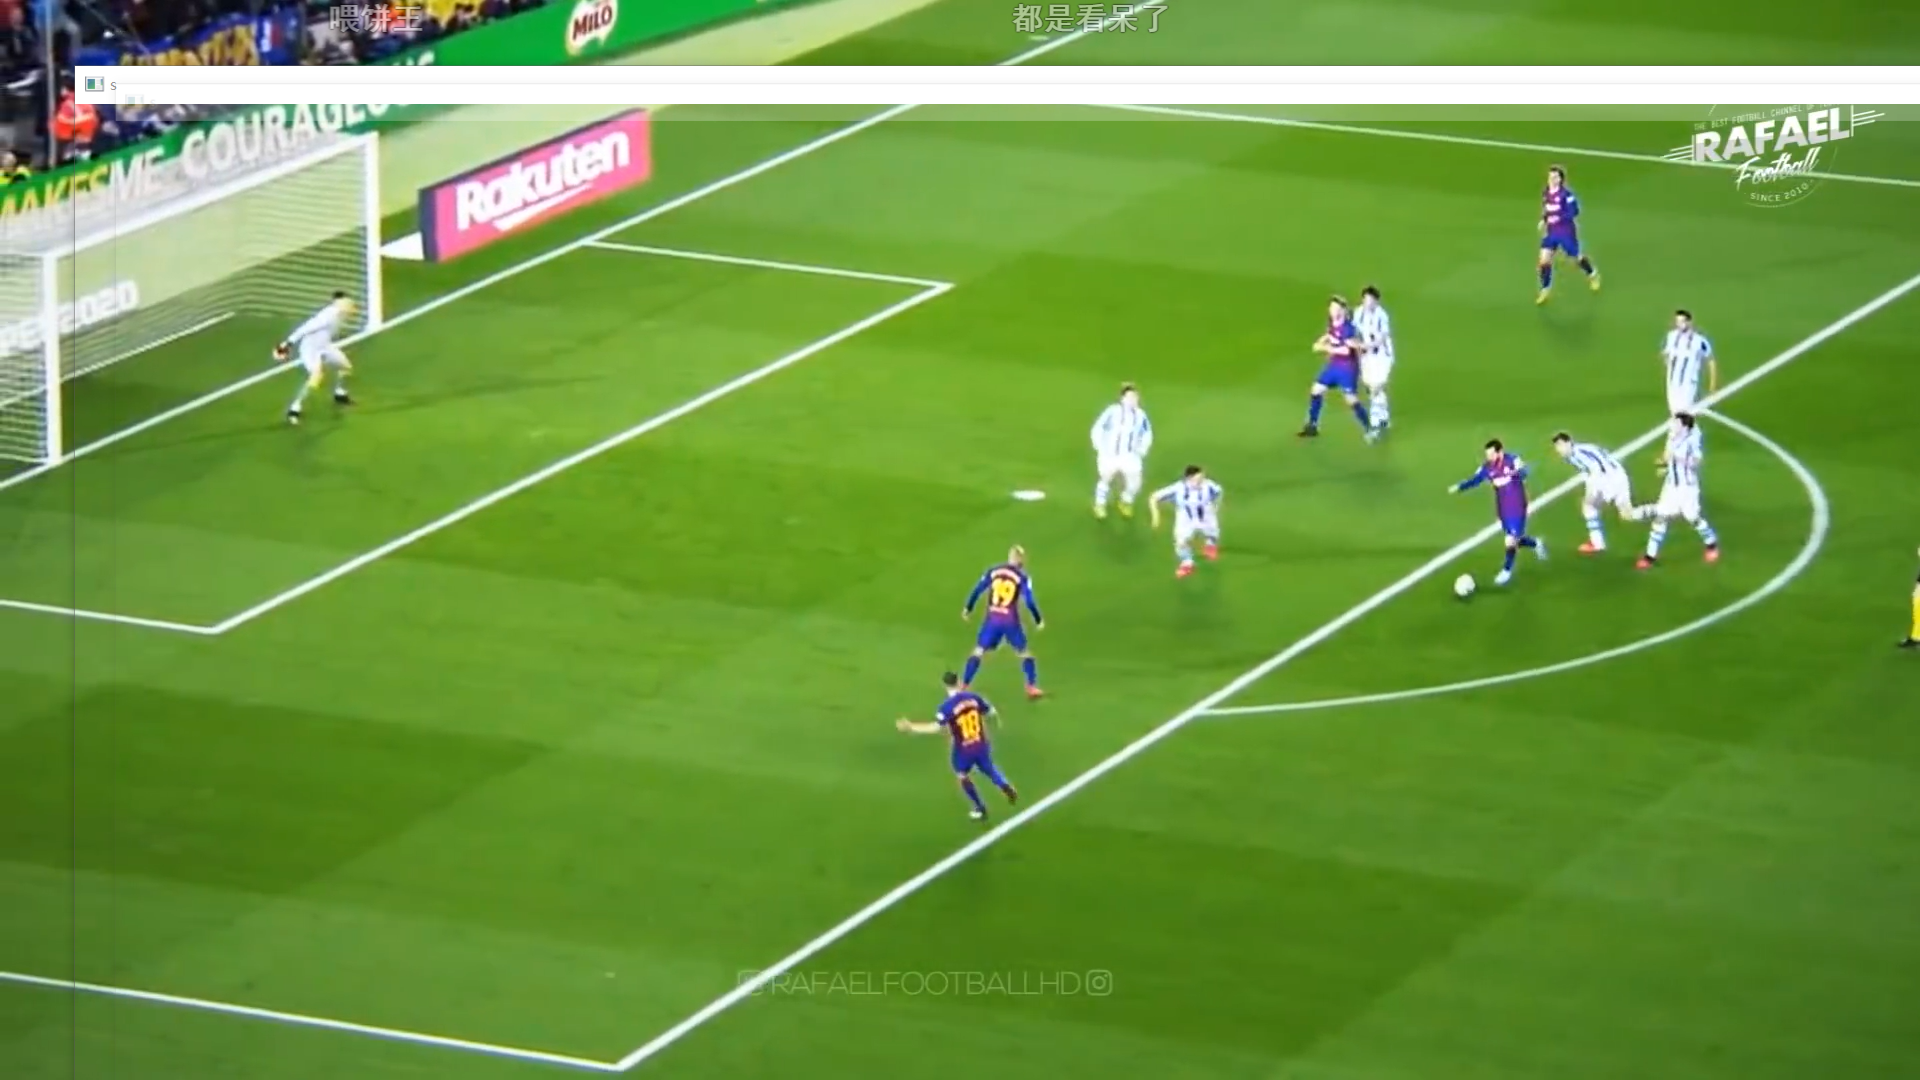ft: (1451, 572, 1476, 600)
